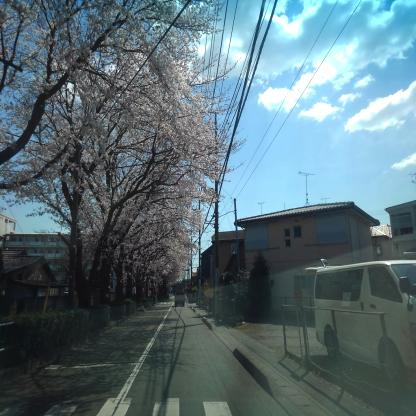Someiyoshino: (1, 1, 259, 299)
